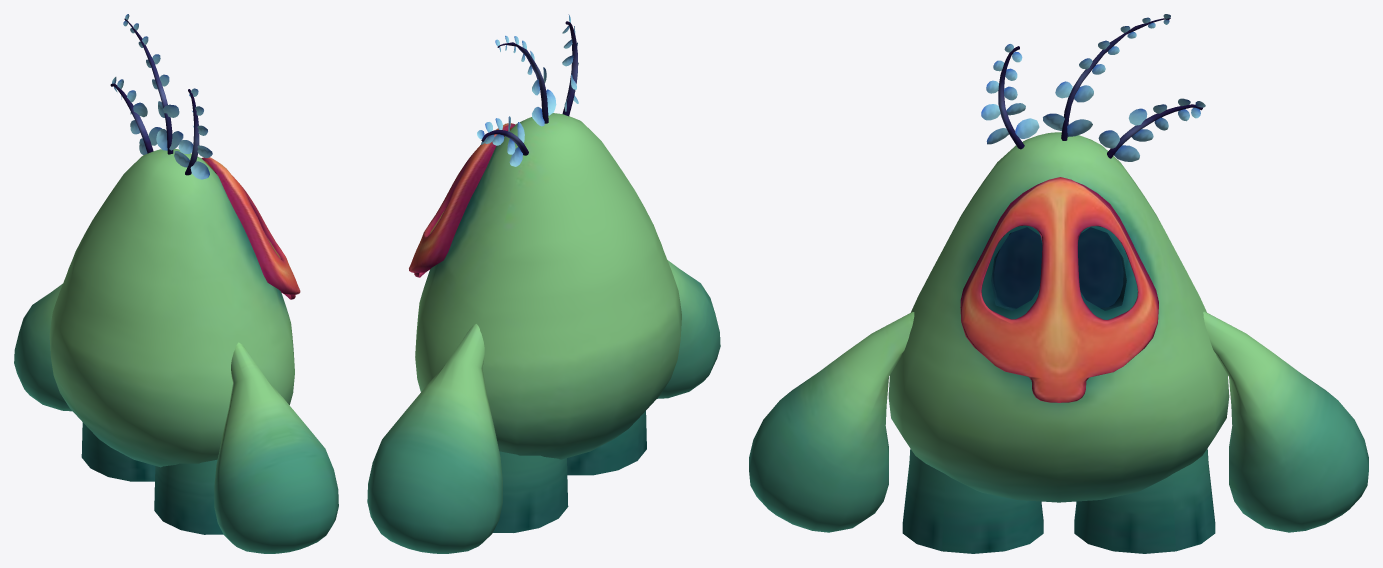
File: tree_sprite_skull_kid-v1.glb
3 renders of one model, left to right at view 1: azimuth 30°, elevation 25°; view 2: azimuth 150°, elevation 25°; view 3: azimuth 270°, elevation 25°, orthographic. The views are drawn at different scales.
Visible parts, largest first — view 1: g; view 2: g; view 3: g.
Part boxes in pixels (x1,y1,x2,y2): g: (14, 14, 338, 553); g: (367, 14, 720, 553); g: (749, 14, 1368, 553).
Bounding box in the file's own units: 0.9684 × 1.83 × 2.
1 material, 1 textured.
